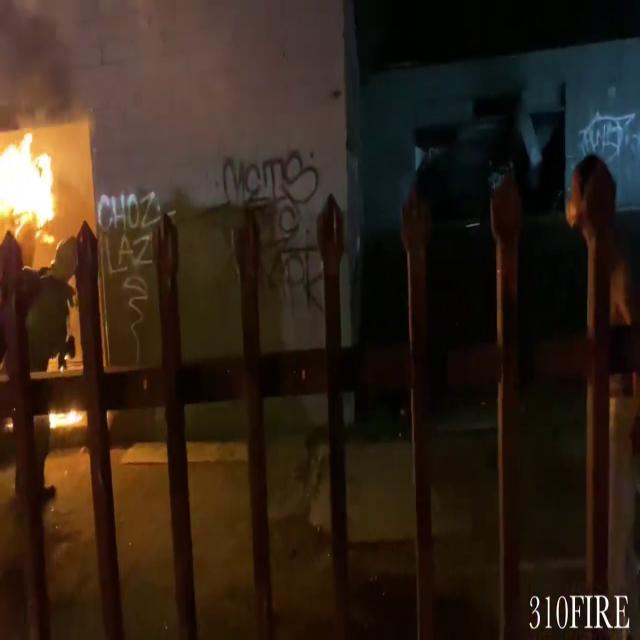Fire: (0, 127, 66, 235), (46, 405, 86, 433)
